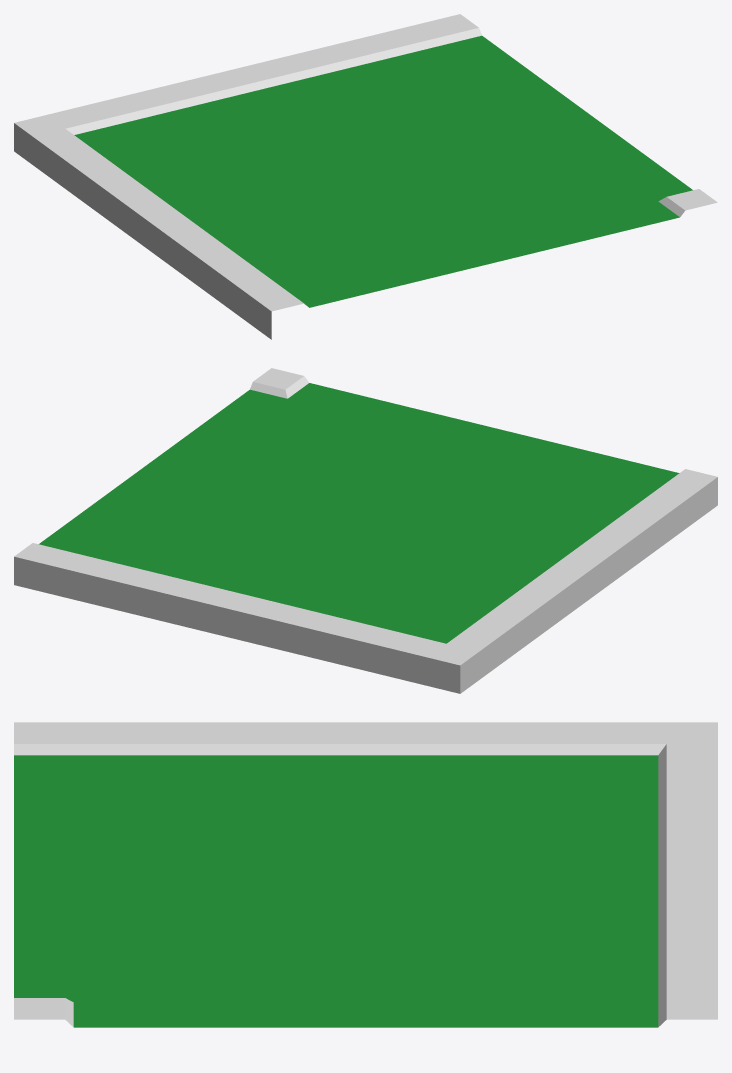
The model's file is GrassBed_1_A_4.fbx.
3 views of the same model, one above another, from view 1: azimuth 30°, elevation 25°; view 2: azimuth 150°, elevation 25°; view 3: azimuth 270°, elevation 25° (orthographic). The views are drawn at different scales.
Parts seen in each view (by area): view 1: GrassBed_1_A_4; view 2: GrassBed_1_A_4; view 3: GrassBed_1_A_4.
Boxes of the visible parts, left/top/right/bottom form: GrassBed_1_A_4: left=14, top=14, right=717, bottom=339; GrassBed_1_A_4: left=14, top=368, right=717, bottom=693; GrassBed_1_A_4: left=14, top=722, right=717, bottom=1027.
Size of the model in its own units: 120 by 7.32 by 120.
